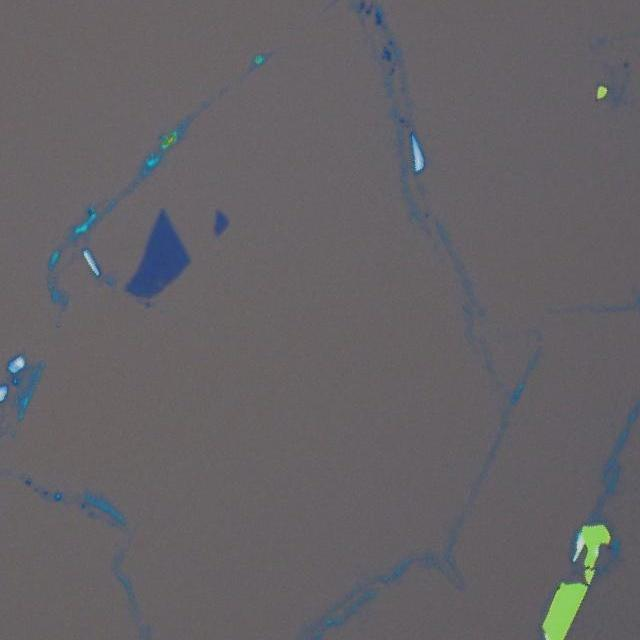monolayer-eWW4: (120, 205, 196, 302), (210, 205, 233, 238)
